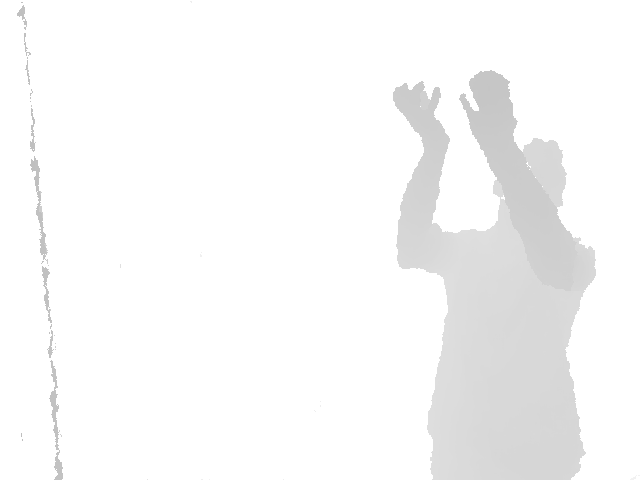hand: (458, 70, 518, 139), (392, 82, 451, 145)
head: (490, 137, 568, 229)
person: (392, 71, 600, 480)
